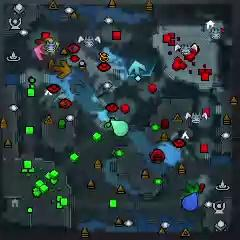p1: (182, 191, 199, 211)
p2: (110, 120, 129, 136)
x1: (34, 43, 49, 60)
x3: (127, 59, 147, 79)
x4: (182, 181, 200, 197)
x5: (53, 60, 72, 78)
